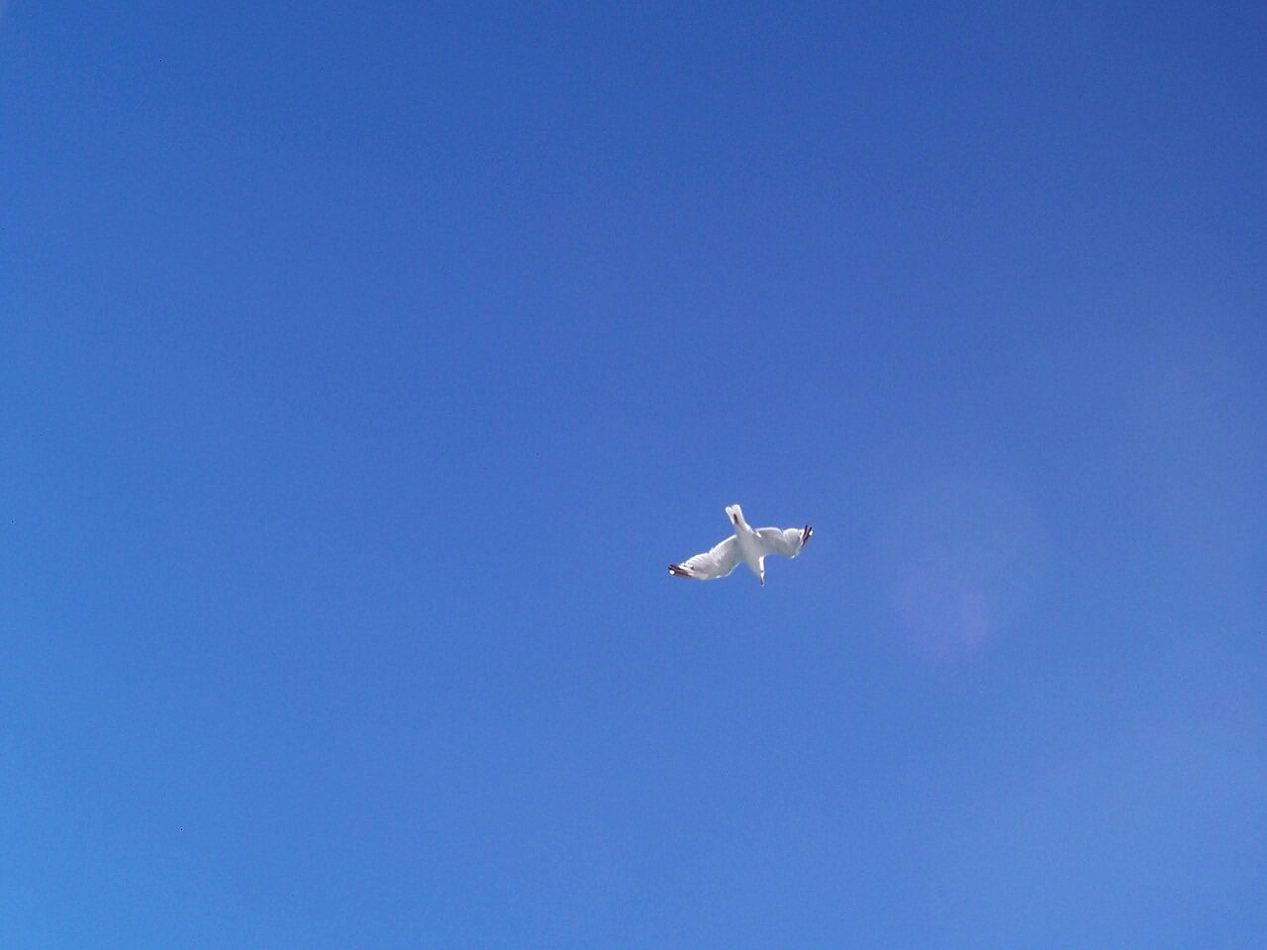bird: (666, 503, 815, 586)
